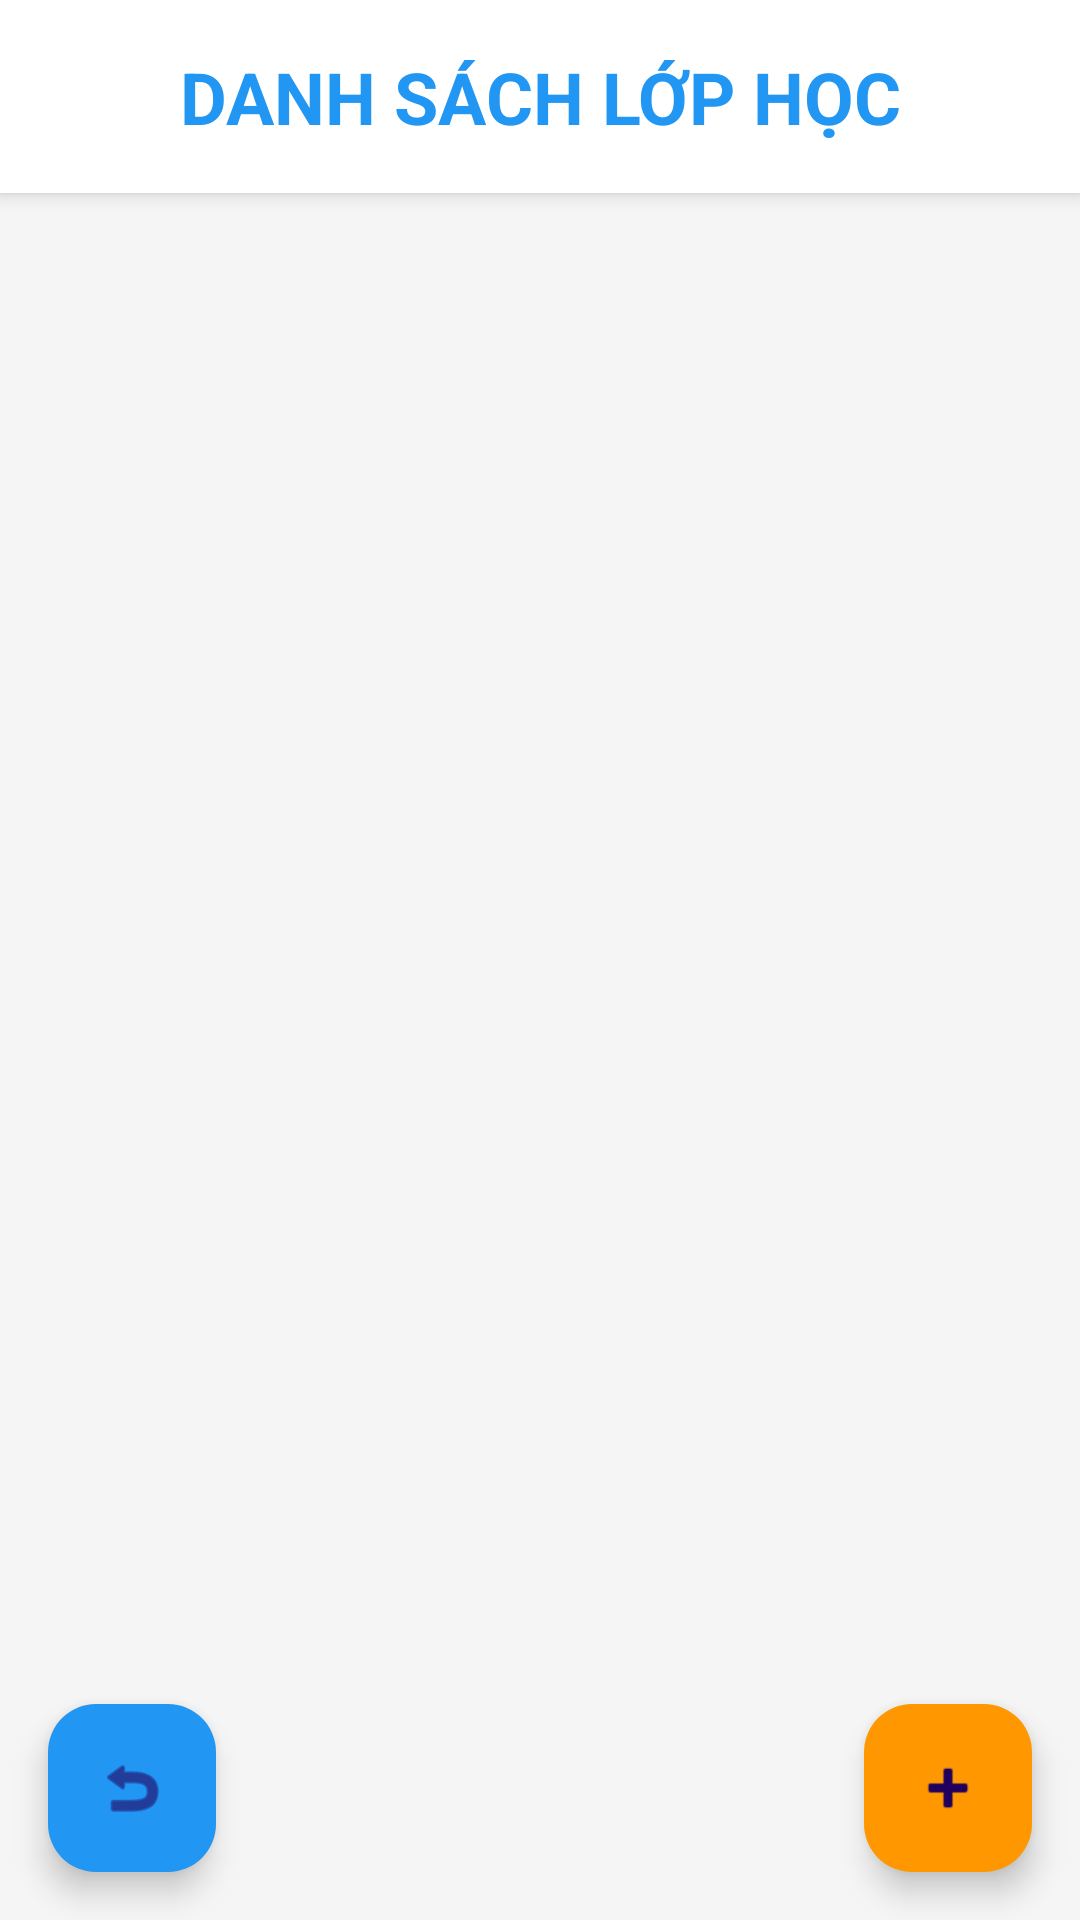

Point at icon controls on the screen. Image size 1080w x 1920h, points as (x=x, y=y).
Quay lại: (x=132, y=1788)
Thêm lớp mới: (x=948, y=1788)
